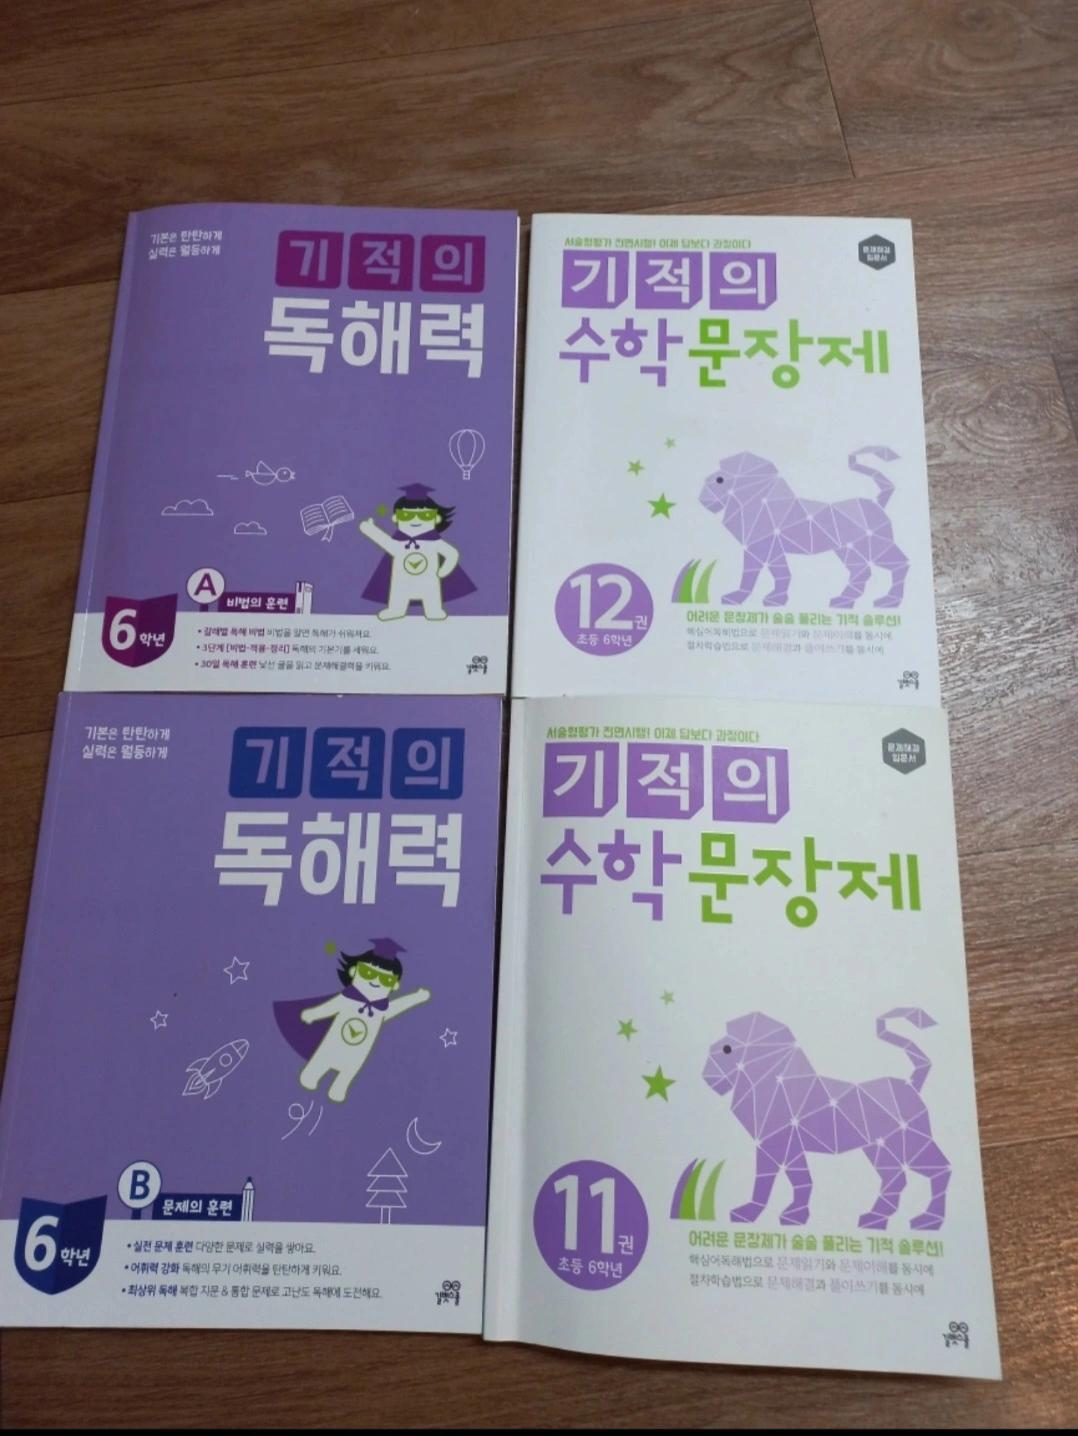book: (481, 694, 1004, 1382), (0, 691, 507, 1336), (59, 199, 520, 695), (508, 210, 946, 704)
